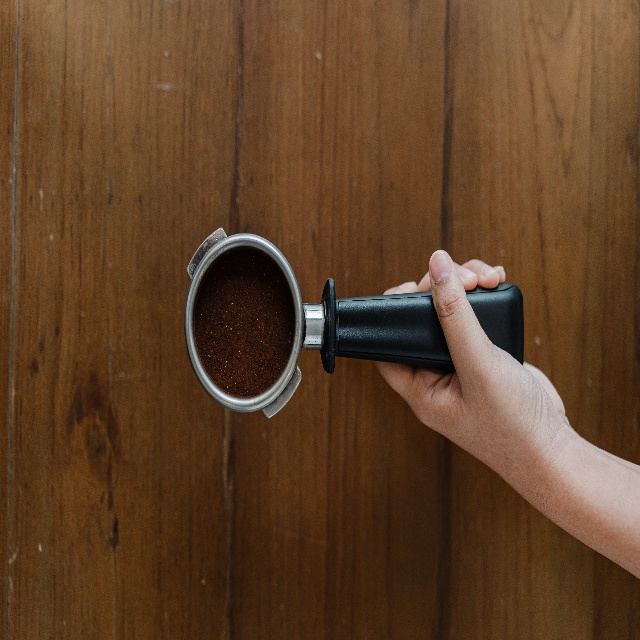Sin_guantes: (376, 247, 565, 501)
